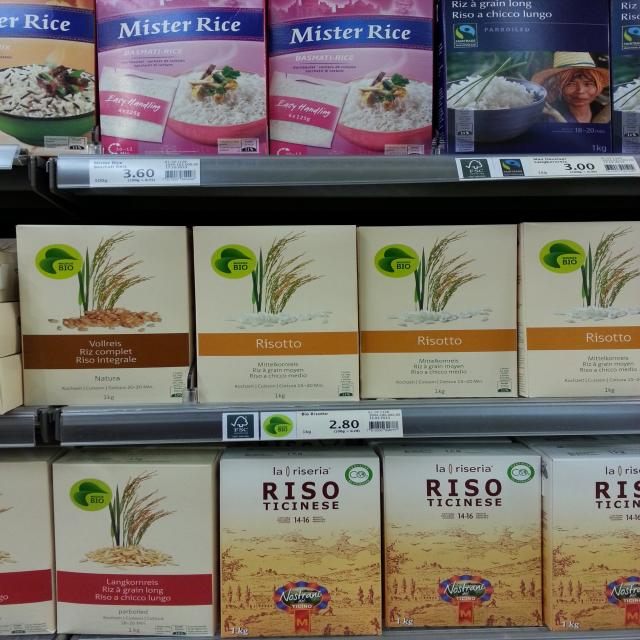Rice: (186, 222, 360, 403), (17, 223, 192, 402), (217, 448, 379, 640), (378, 446, 542, 629), (58, 450, 214, 640), (354, 223, 518, 397), (266, 0, 437, 154), (96, 0, 266, 154), (439, 0, 607, 153), (517, 221, 640, 398), (545, 445, 640, 629), (0, 0, 98, 158)
